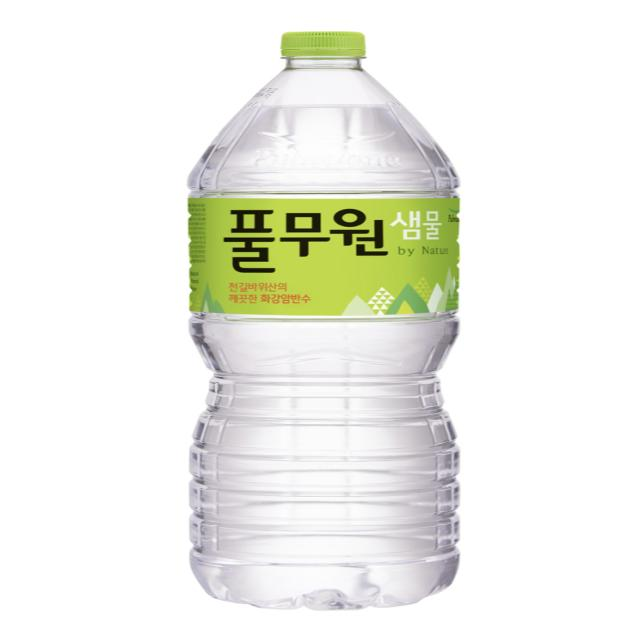recyclable: (145, 15, 514, 618)
